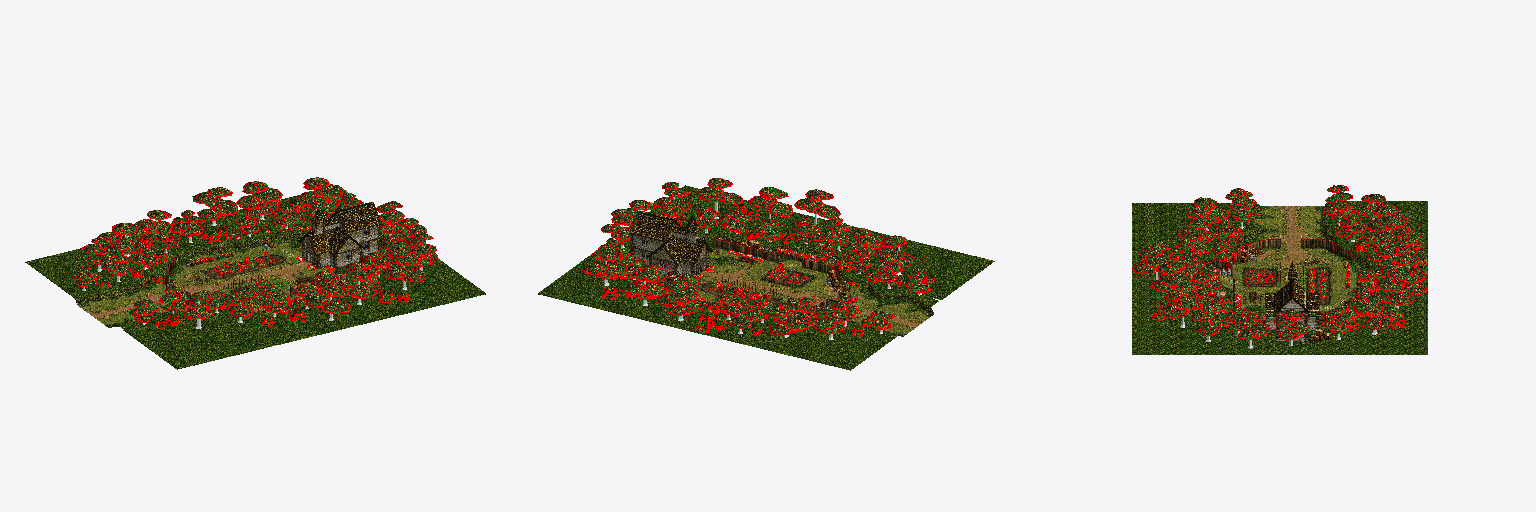
3 renders of one model, left to right at view 1: azimuth 30°, elevation 25°; view 2: azimuth 150°, elevation 25°; view 3: azimuth 270°, elevation 25°, orthographic.
Visible parts, largest first — view 1: Object.006; view 2: Object.006; view 3: Object.006.
Boxes of the visible parts, <box> form: Object.006: <box>25,177,485,369</box>; Object.006: <box>538,178,994,370</box>; Object.006: <box>1132,185,1427,354</box>.
Bounding box in the file's own units: 68.17 × 12.34 × 55.85.
13 materials, 11 textured.